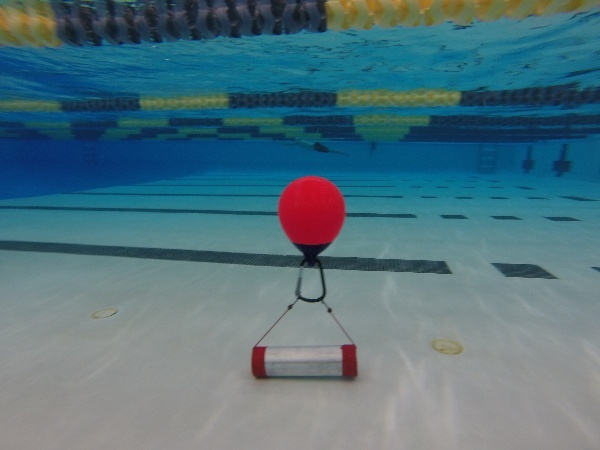buoy_red: (275, 172, 348, 266)
